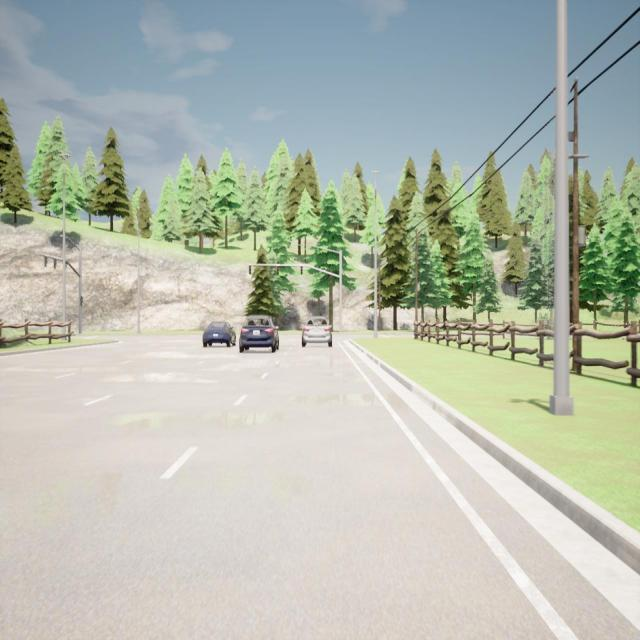Vehicle: (238, 314, 280, 354), (301, 316, 332, 347), (202, 320, 236, 348)
traffic_light: (44, 256, 48, 267), (80, 296, 83, 306), (276, 266, 279, 274), (54, 258, 56, 269), (249, 265, 251, 275), (300, 266, 302, 275)
